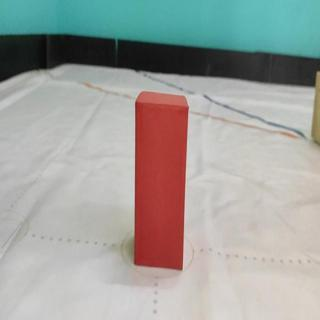redbox: (132, 90, 189, 272)
